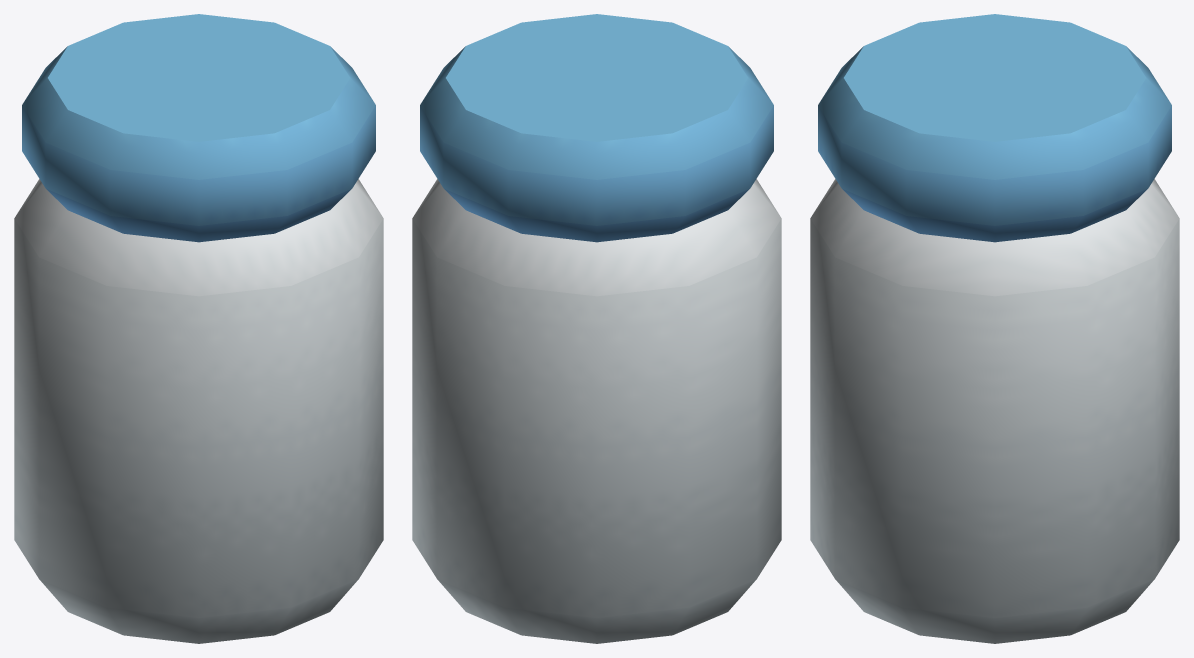
File: jar_A_large.gltf
3 renders of one model, left to right at view 1: azimuth 30°, elevation 25°; view 2: azimuth 150°, elevation 25°; view 3: azimuth 270°, elevation 25°, orthographic.
Parts seen in each view (by area): view 1: jar_A_large; view 2: jar_A_large; view 3: jar_A_large.
Part boxes in pixels (left/top/right/bottom): jar_A_large: left=14, top=14, right=383, bottom=643; jar_A_large: left=412, top=14, right=781, bottom=643; jar_A_large: left=810, top=14, right=1179, bottom=643.
Bounding box in the file's own units: 0.5 × 0.75 × 0.5.
1 material, 1 textured.
